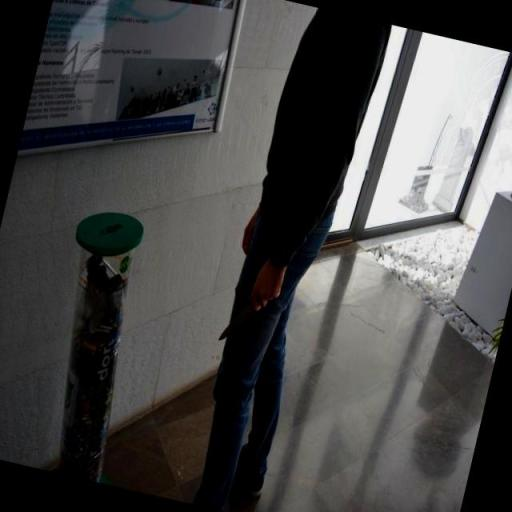knife: (214, 286, 264, 350)
